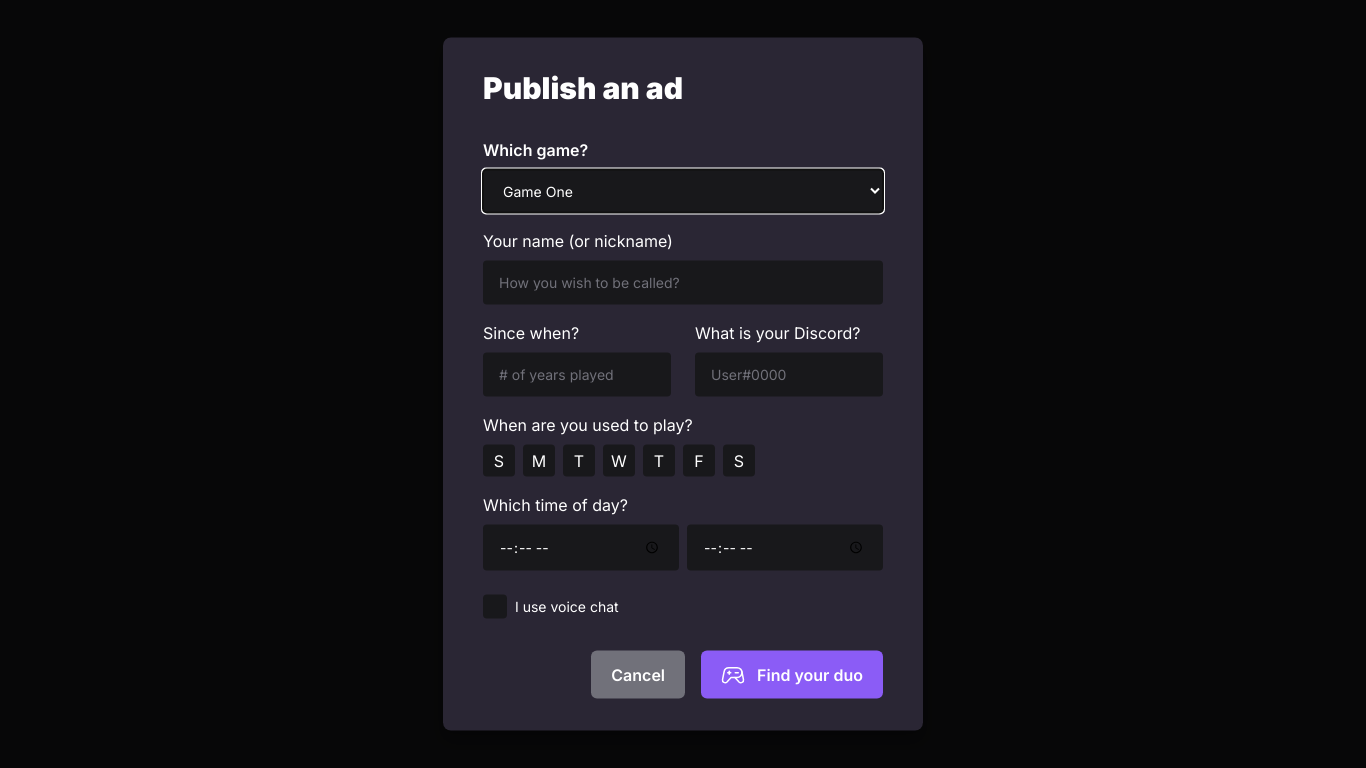
Scenario: CreateAdModal › shows the field issues returned by the server
Earlier steps of the test are not shown.
In the field labelled "Your name (or nickname)": (683, 282) [483, 260, 883, 304], type "  Player One  "
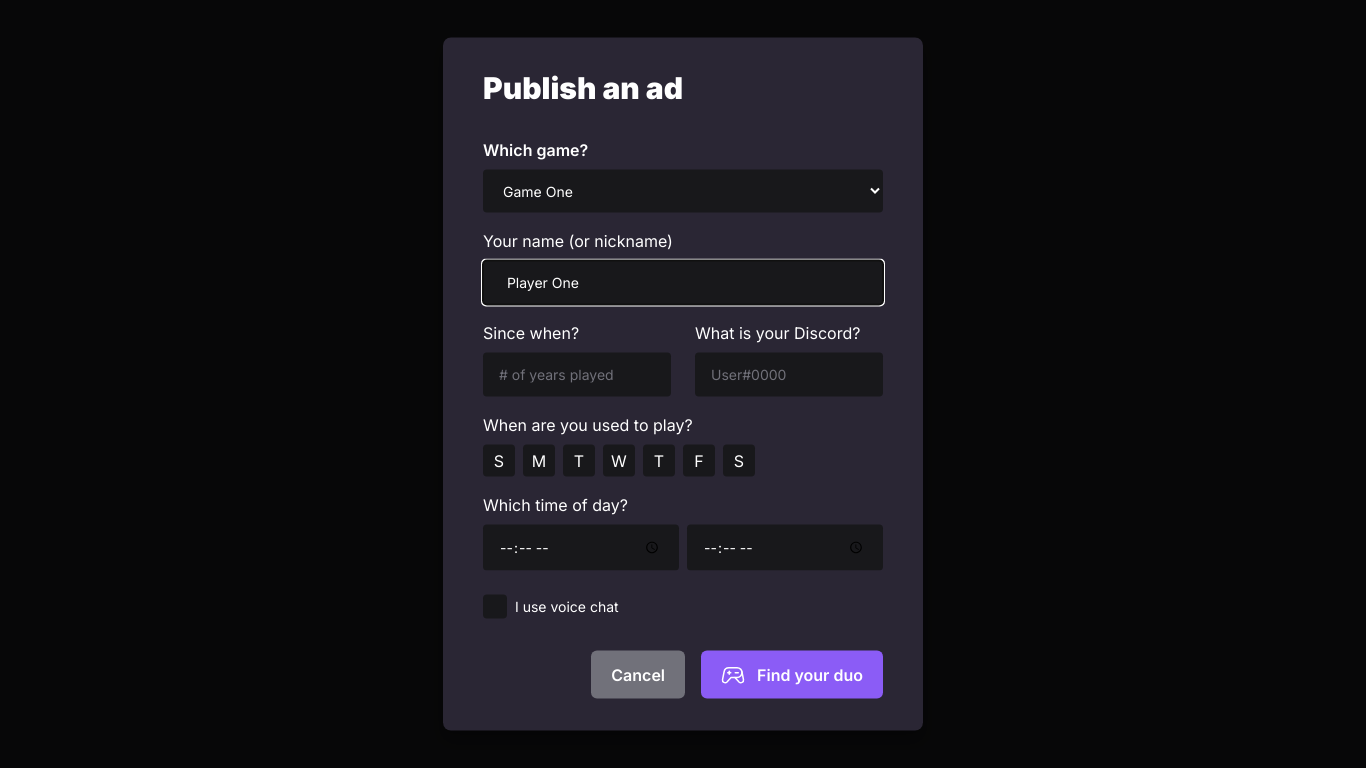
In the number field labelled "Since when?": (577, 374) [483, 352, 671, 396], type "3"
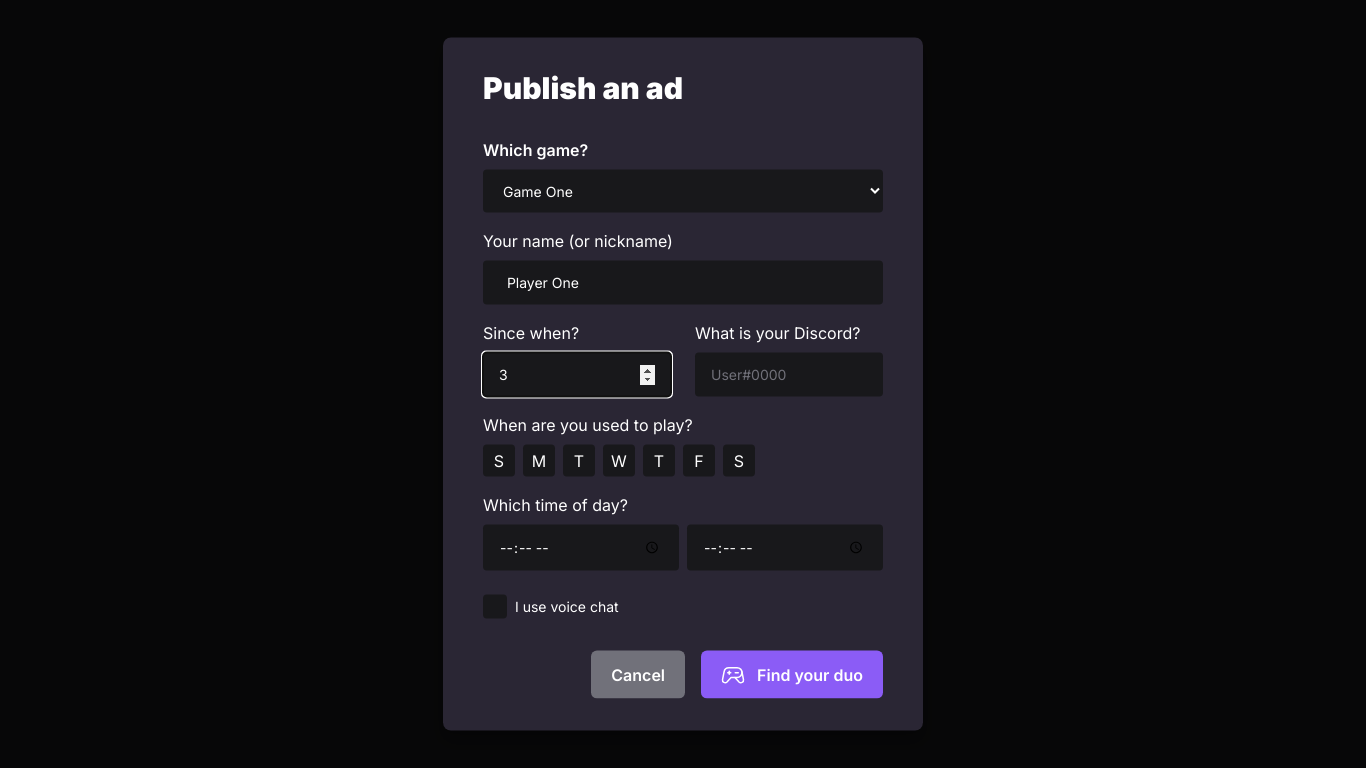
In the field labelled "What is your Discord?": (789, 374) [695, 352, 883, 396], type "player#1234"
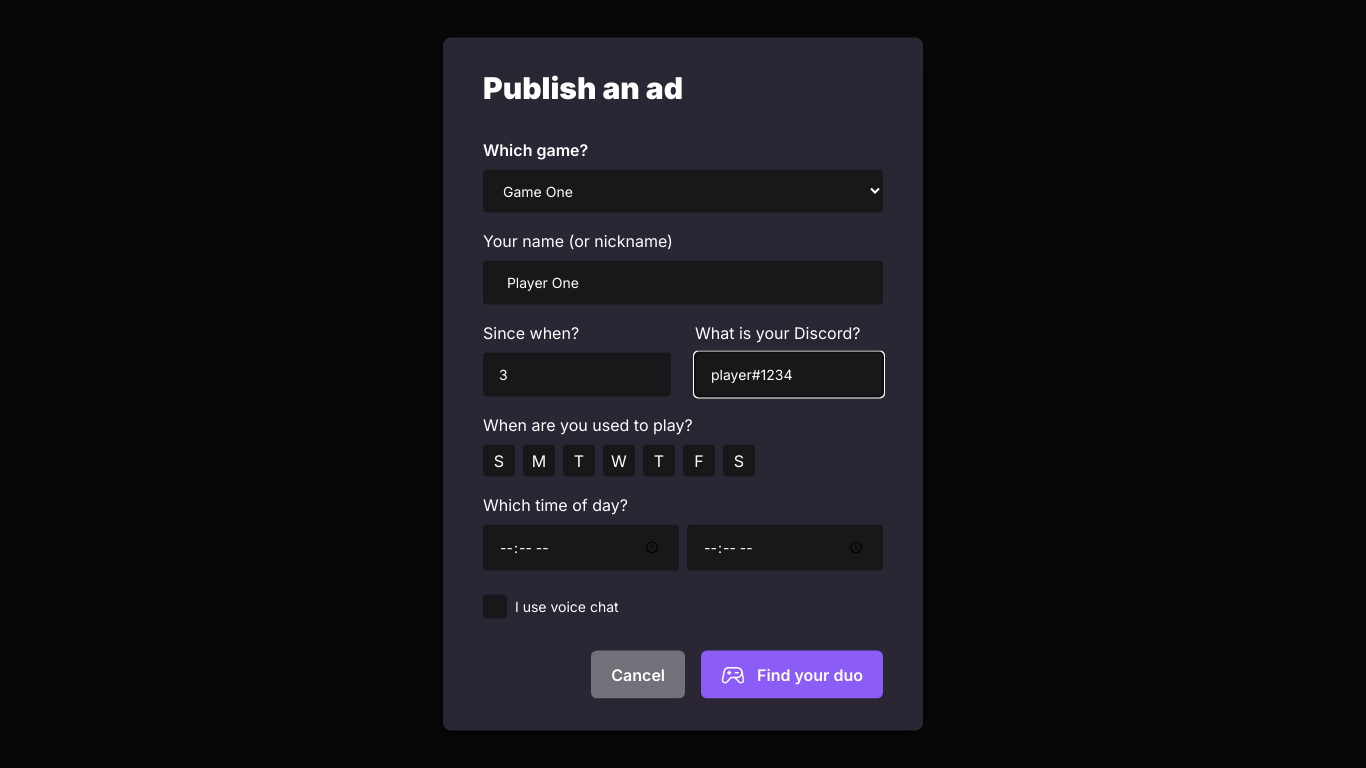
Click the button titled "Monday": (539, 460) [523, 444, 555, 476]
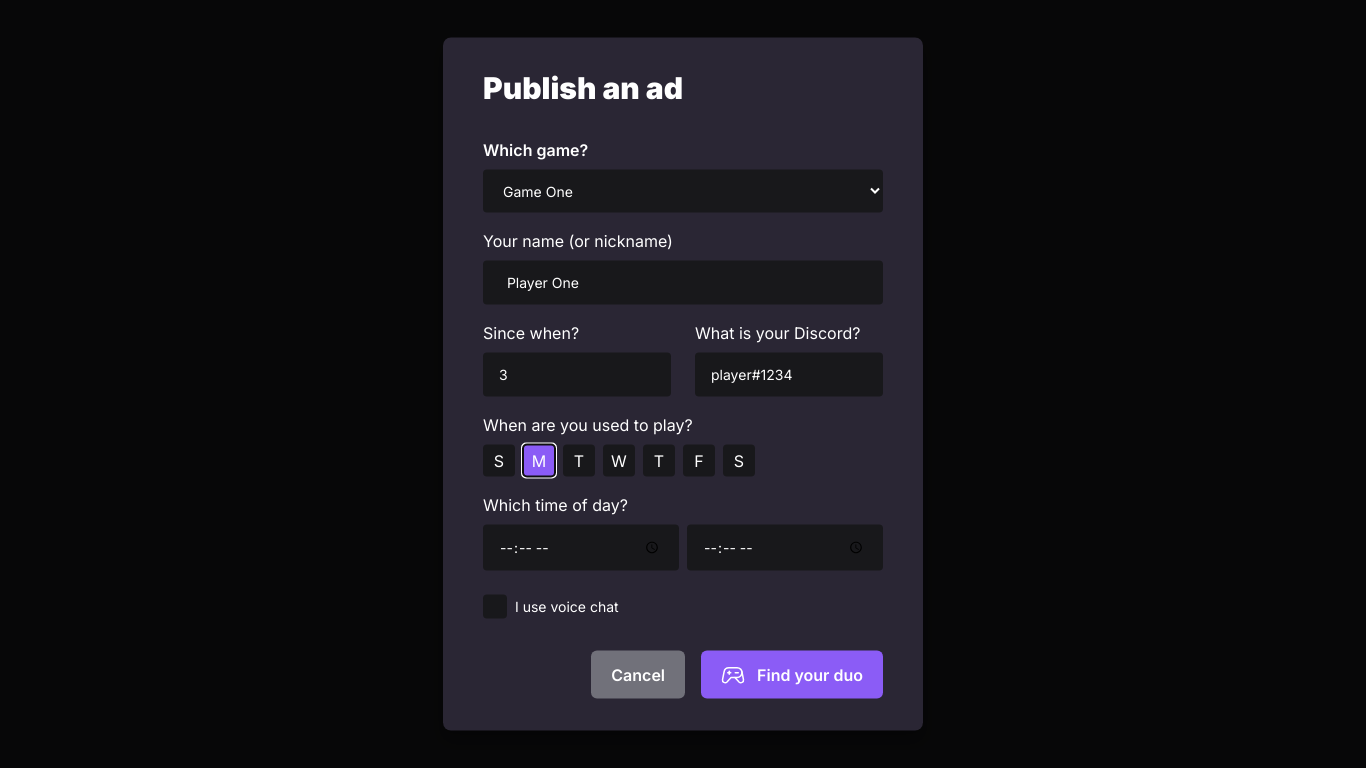
Click the button titled "Friday": (699, 460) [683, 444, 715, 476]
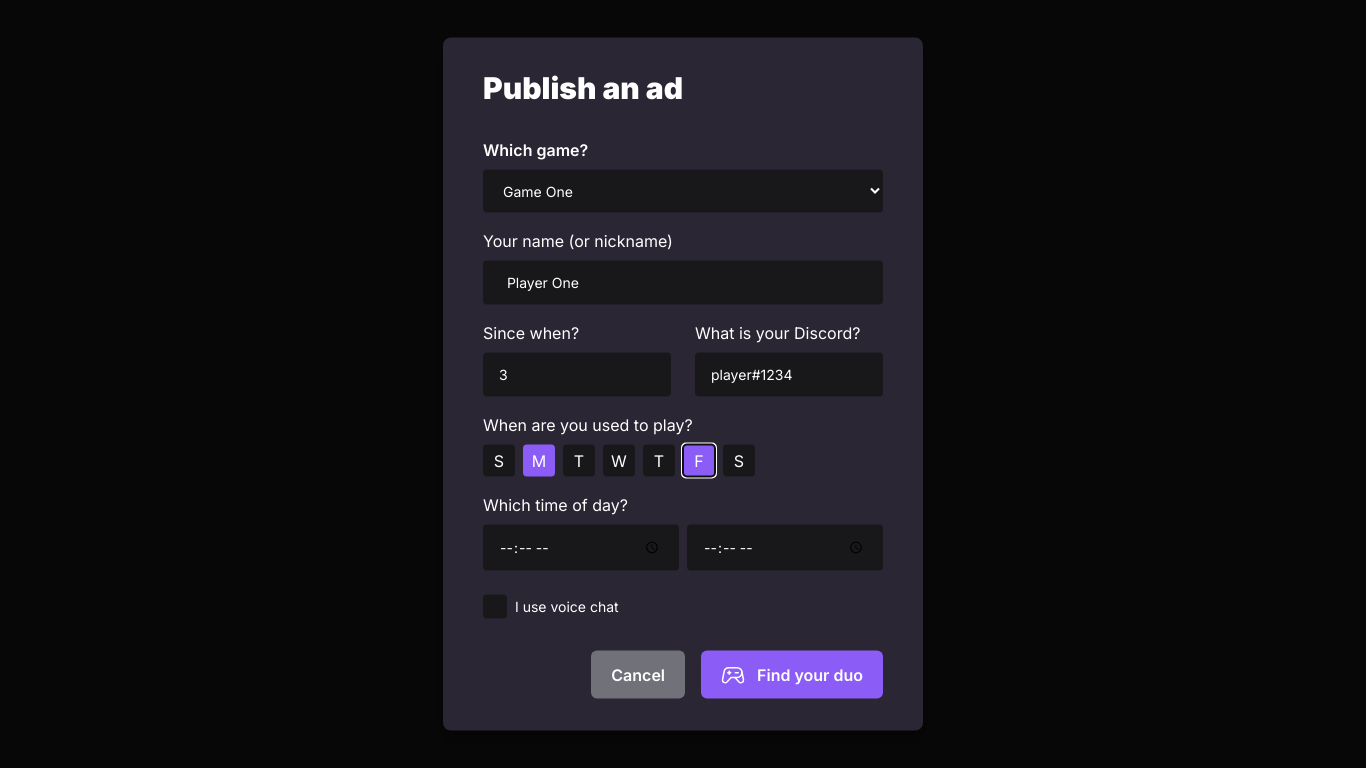
In the time field named "From": (581, 548) [483, 524, 679, 570], type "18:00"
In the time field labelled "To": (785, 548) [687, 524, 883, 570], type "22:30"
Click the button "Find your duo": (792, 674) [701, 650, 883, 698]
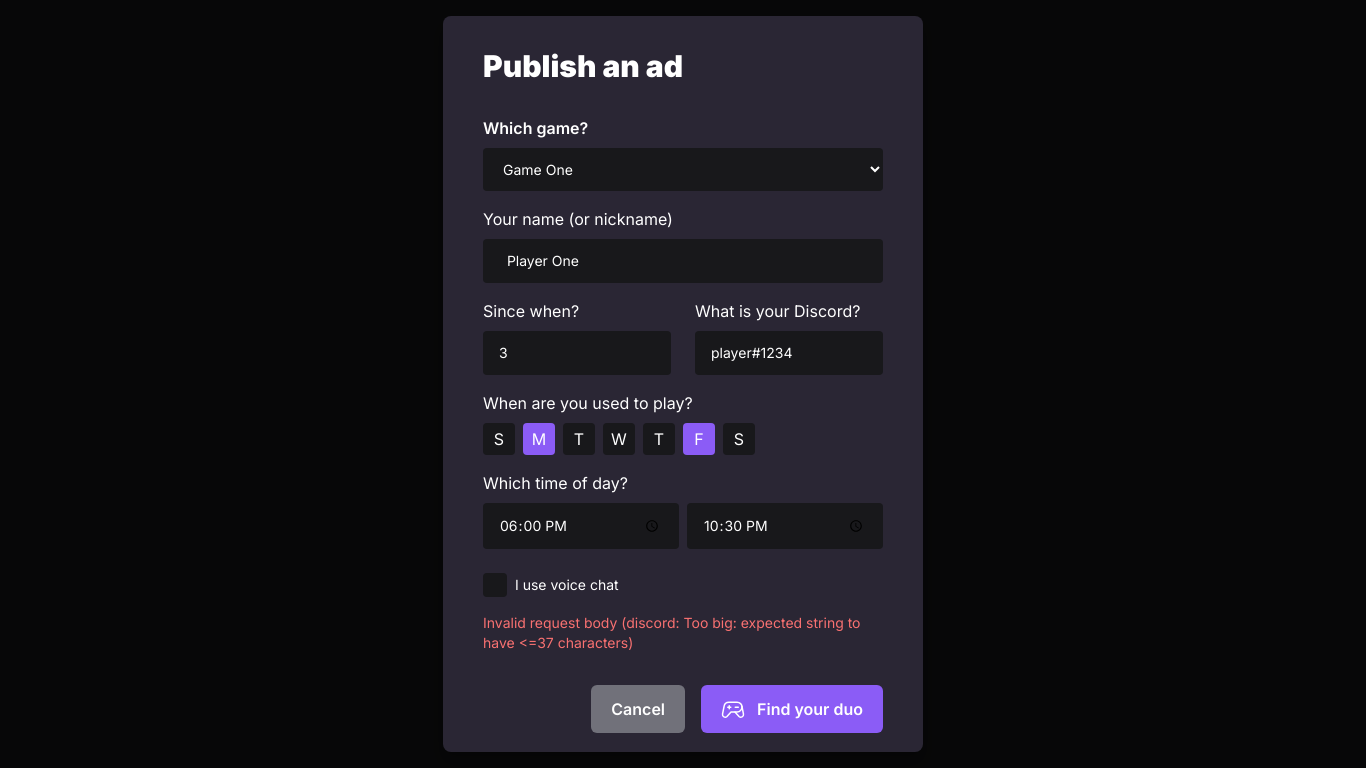
Check: the message reads "Invalid request body (discord: Too big: expected string to have <=37 characters)", box [483, 614, 860, 651]
